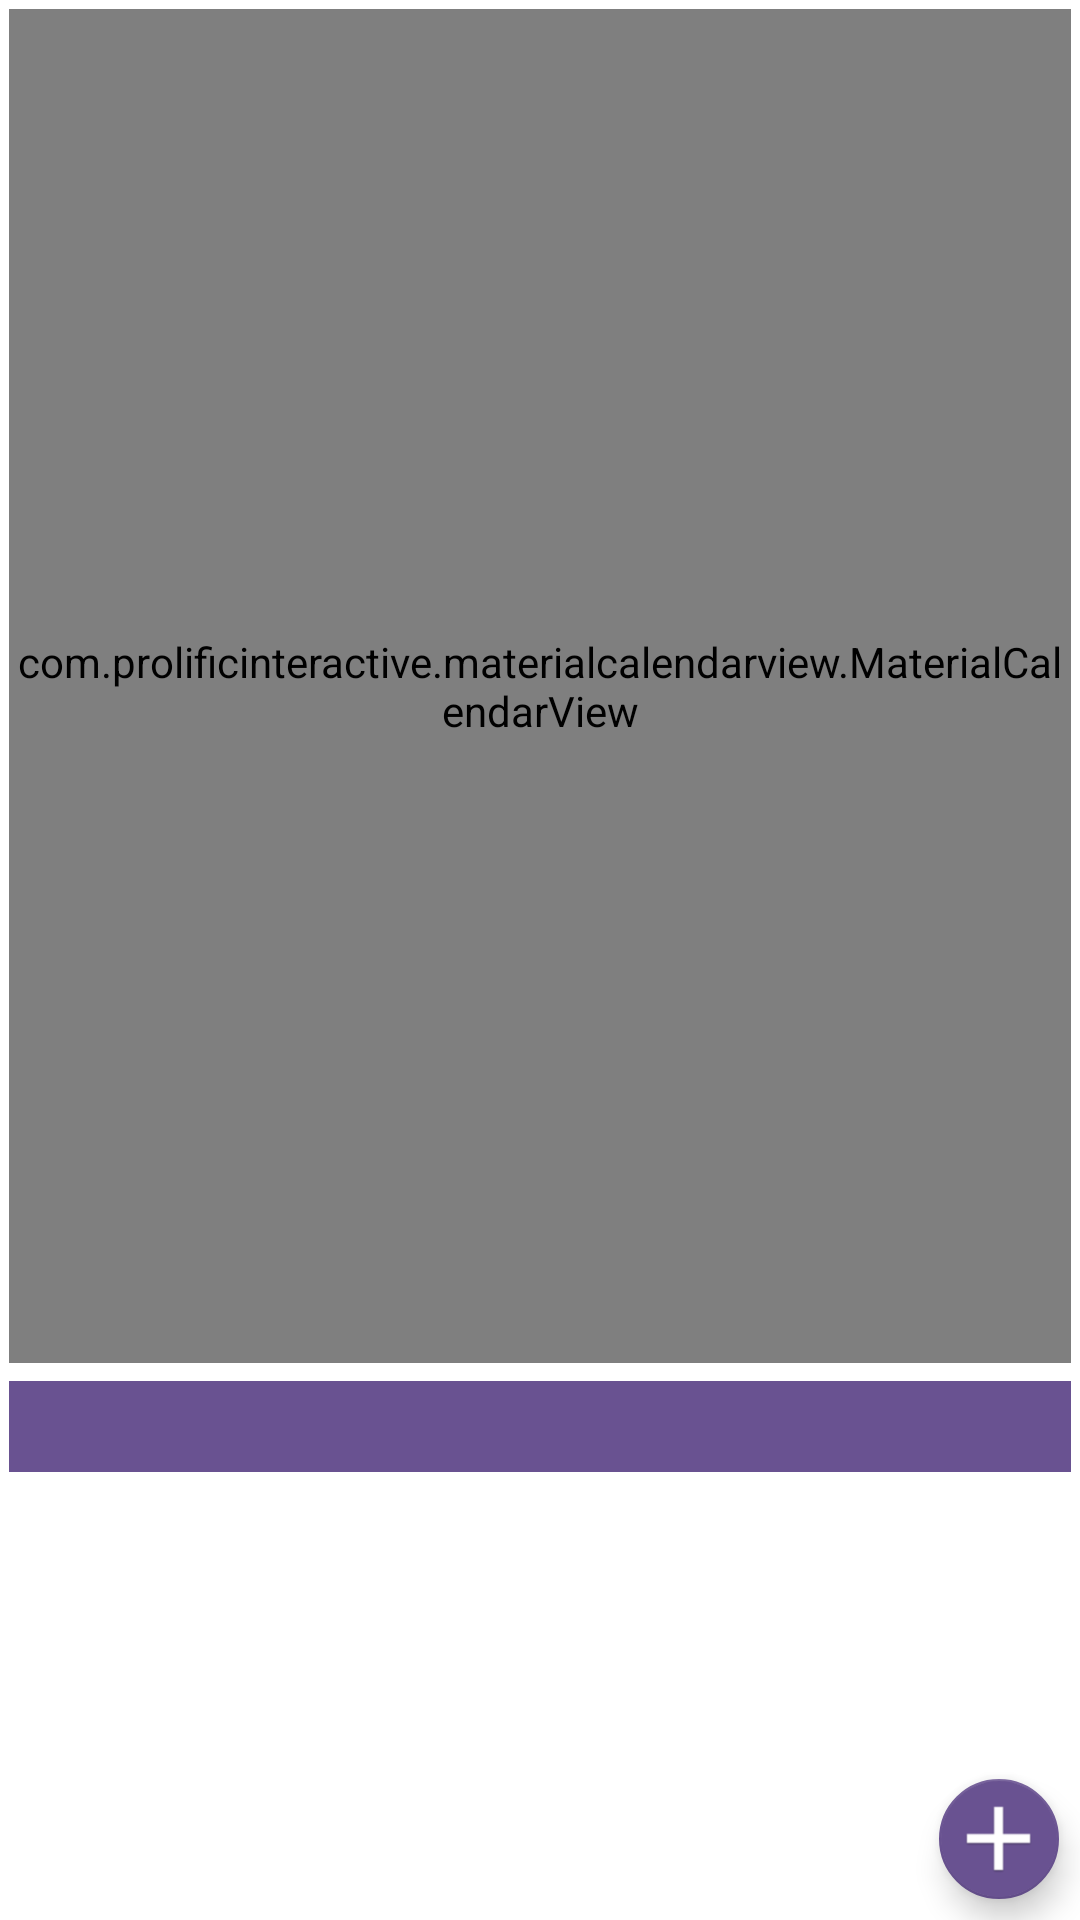

Icons on this 1080 × 1920 Android screen, each with the point to tap as [x,y]:
plus: [999,1839]
